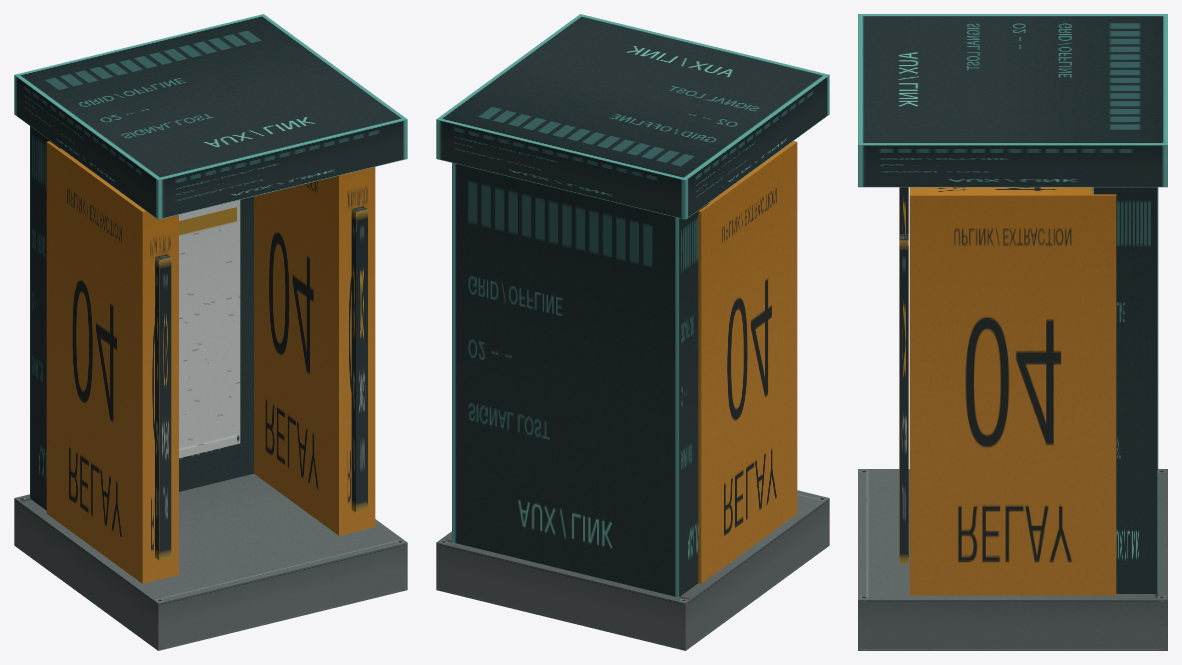
File: purification_pod_LOD2.obj
The picture shows the model from 3 angles, left to right: view 1: azimuth 30°, elevation 25°; view 2: azimuth 150°, elevation 25°; view 3: azimuth 270°, elevation 25°; orthographic projection. The views are drawn at different scales.
Visible parts, largest first — view 1: L02_purification_pod_LOD2; view 2: L02_purification_pod_LOD2; view 3: L02_purification_pod_LOD2.
Part boxes in pixels (x1=…): L02_purification_pod_LOD2: x1=14, y1=14, x2=407, y2=650; L02_purification_pod_LOD2: x1=436, y1=14, x2=829, y2=650; L02_purification_pod_LOD2: x1=858, y1=14, x2=1167, y2=650.
Size of the model in its own units: 1.65 by 2.97 by 1.65.
1 material, 1 textured.
